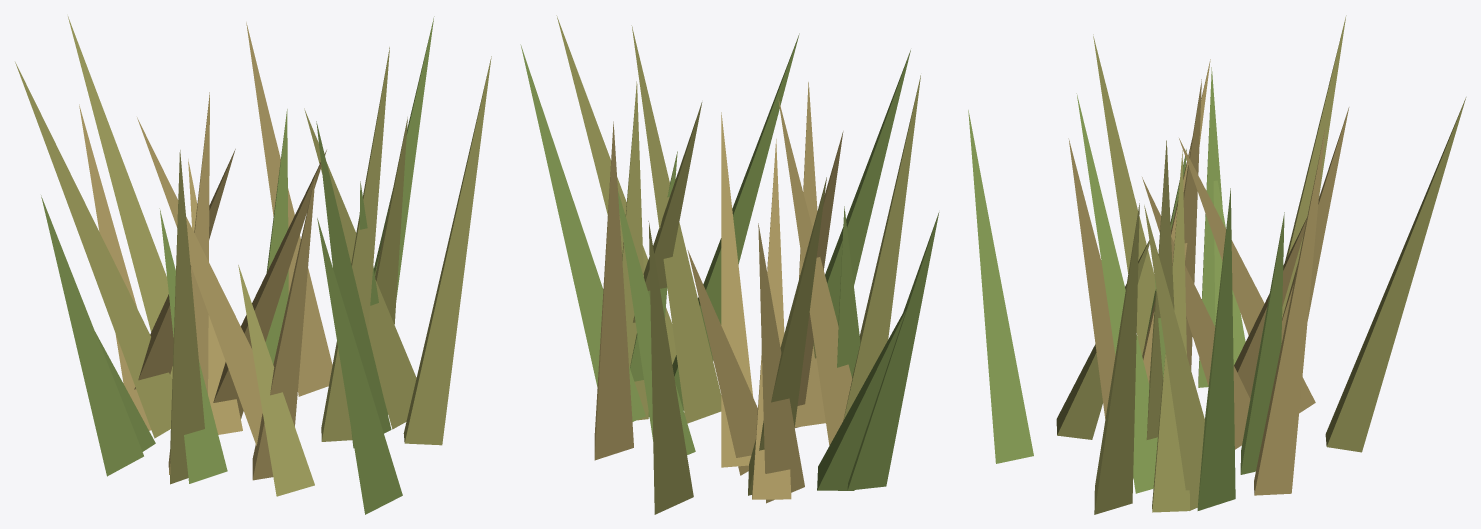
File: cover_grass_b.glb
3 renders of one model, left to right at view 1: azimuth 30°, elevation 25°; view 2: azimuth 150°, elevation 25°; view 3: azimuth 270°, elevation 25°, orthographic. The views are drawn at different scales.
Parts seen in each view (by area): view 1: cover_grass_b; view 2: cover_grass_b; view 3: cover_grass_b.
Boxes of the visible parts, box(x1,y1,x2,y2) form: cover_grass_b: box(15, 16, 491, 514); cover_grass_b: box(520, 15, 939, 514); cover_grass_b: box(968, 15, 1466, 514).
Size of the model in its own units: 1.11 by 0.9763 by 1.18.
